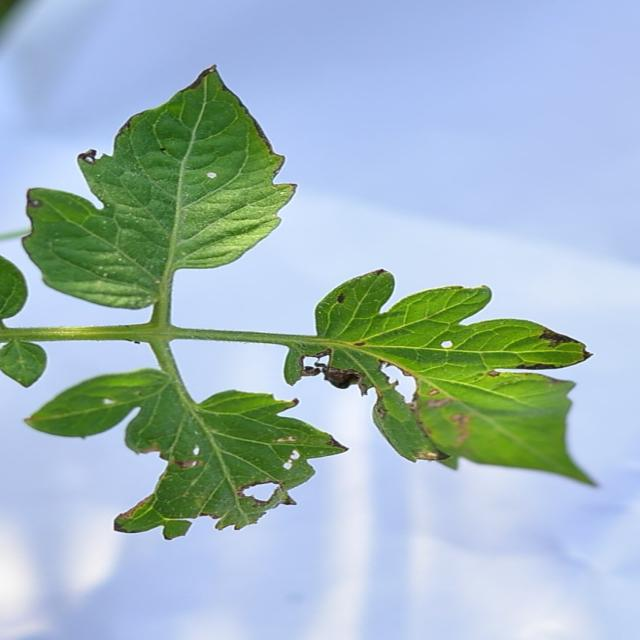infected: (296, 331, 620, 459), (91, 385, 317, 551), (19, 138, 300, 226)
